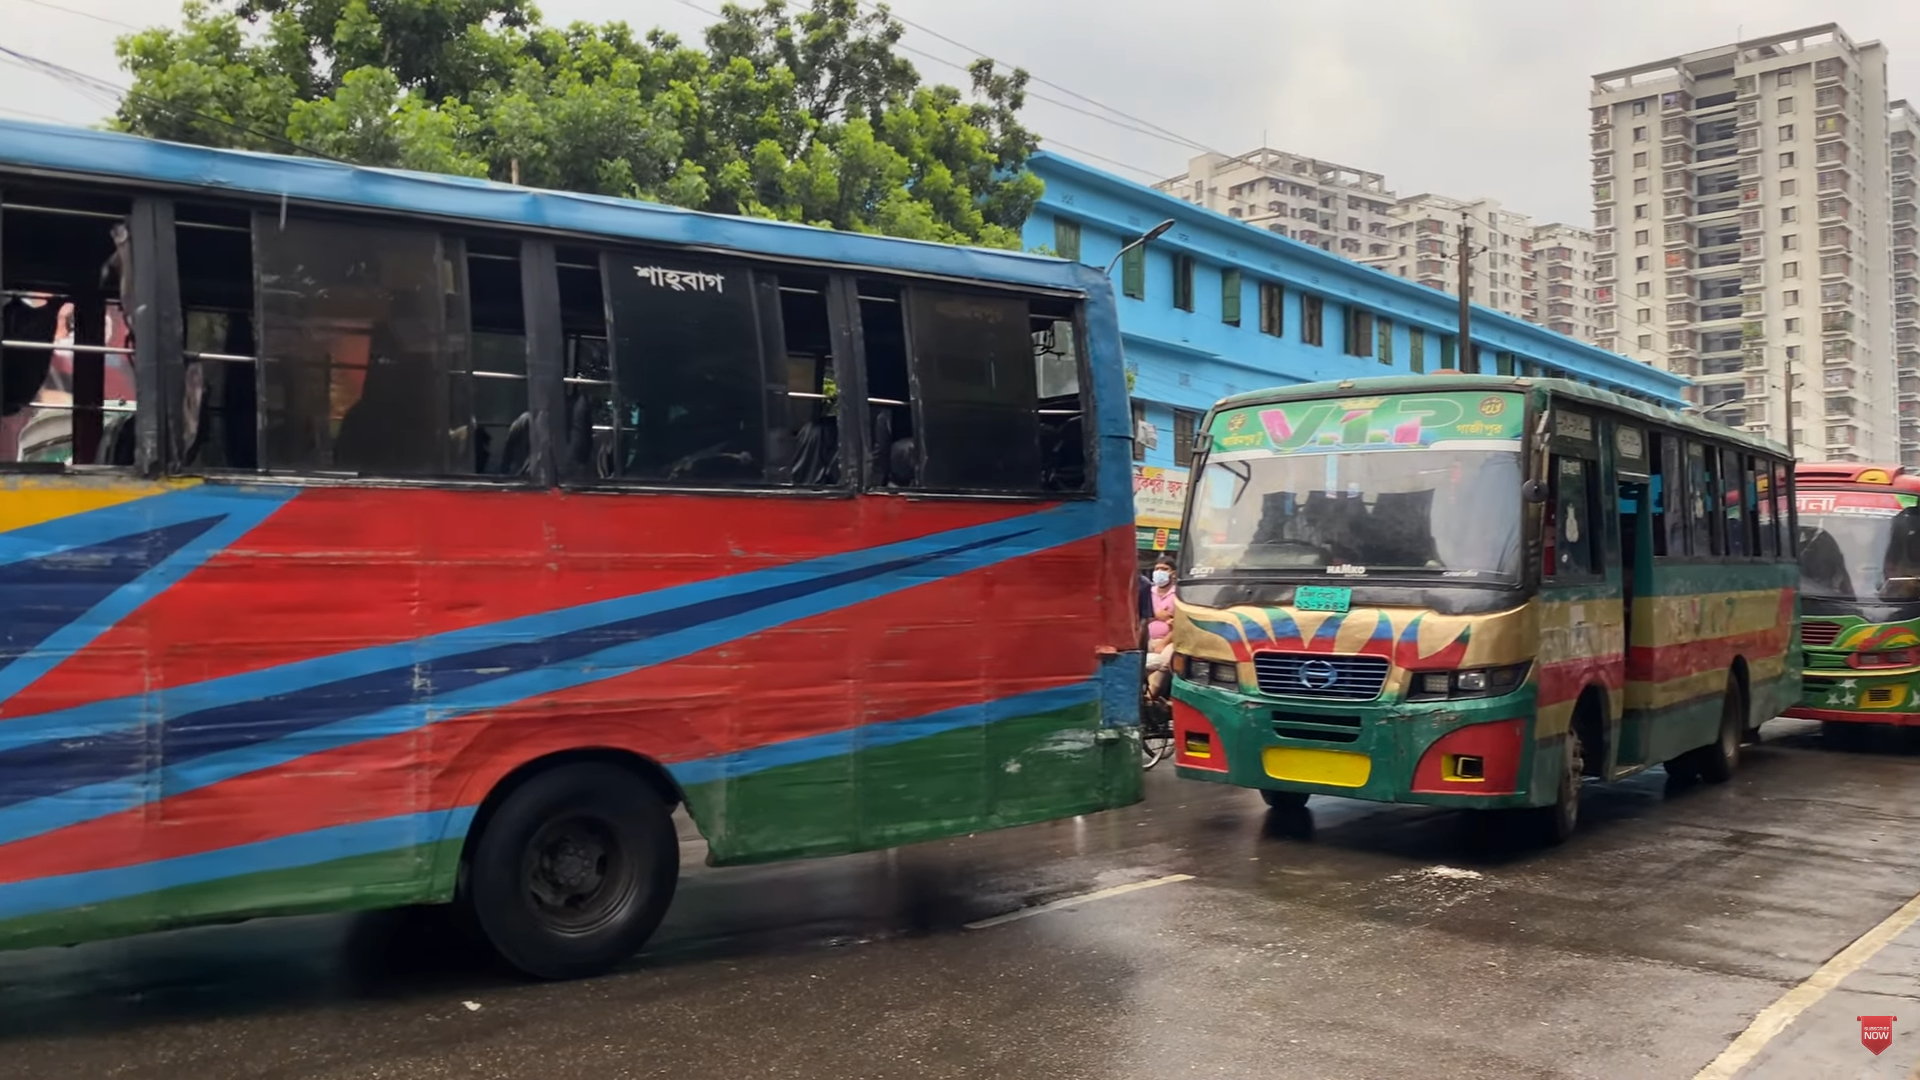Bus: (44, 129, 1126, 981), (1163, 365, 1804, 843)
